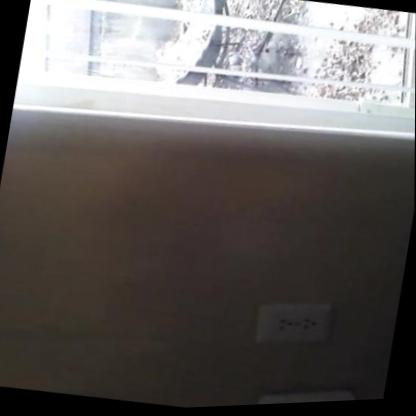OUTLET: (250, 290, 336, 354)
